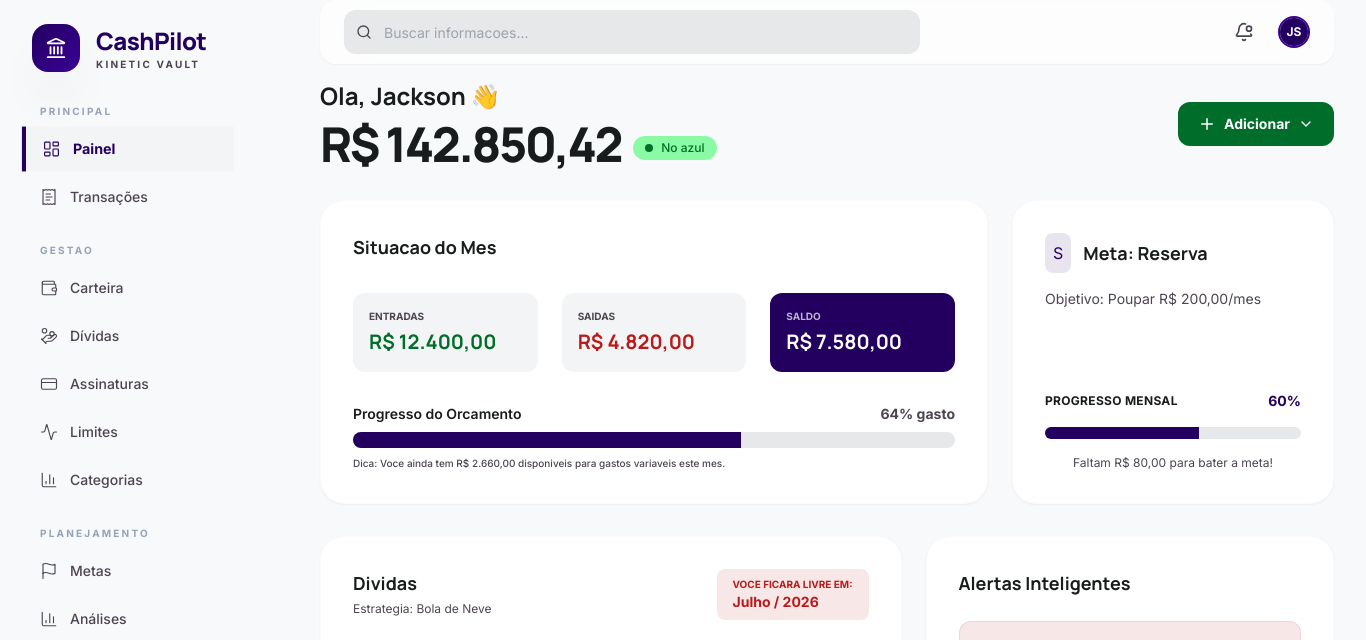
Test case: CashPilot app shell › renders coming soon pages for inactive modules
Click the link "Assinaturas" at (94, 384), box left=40, top=375, right=149, bottom=393
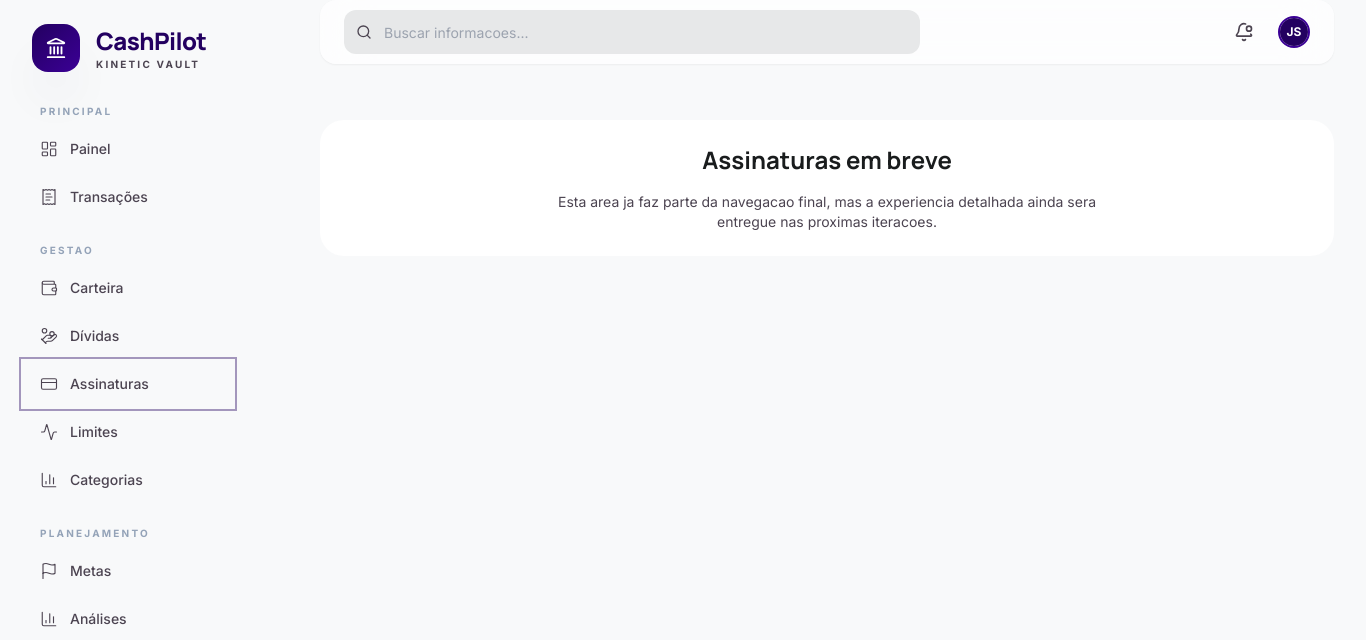
Check: the text "Assinaturas em breve" is shown, box left=702, top=143, right=952, bottom=176
